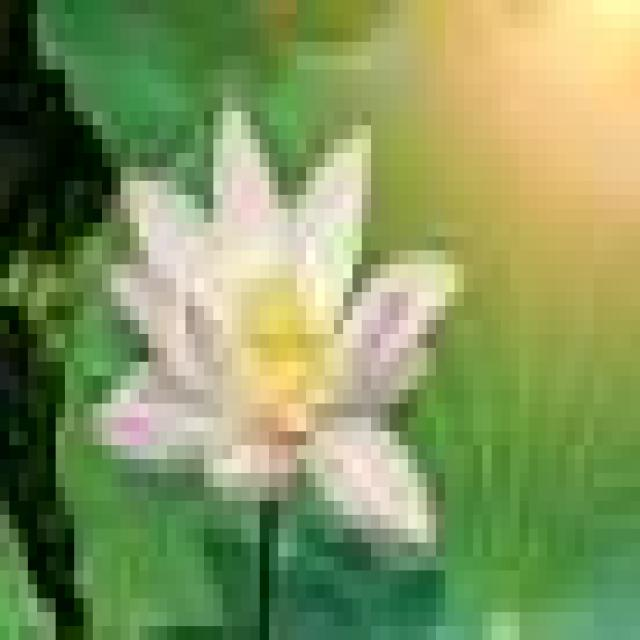lotus: (46, 106, 504, 590)
